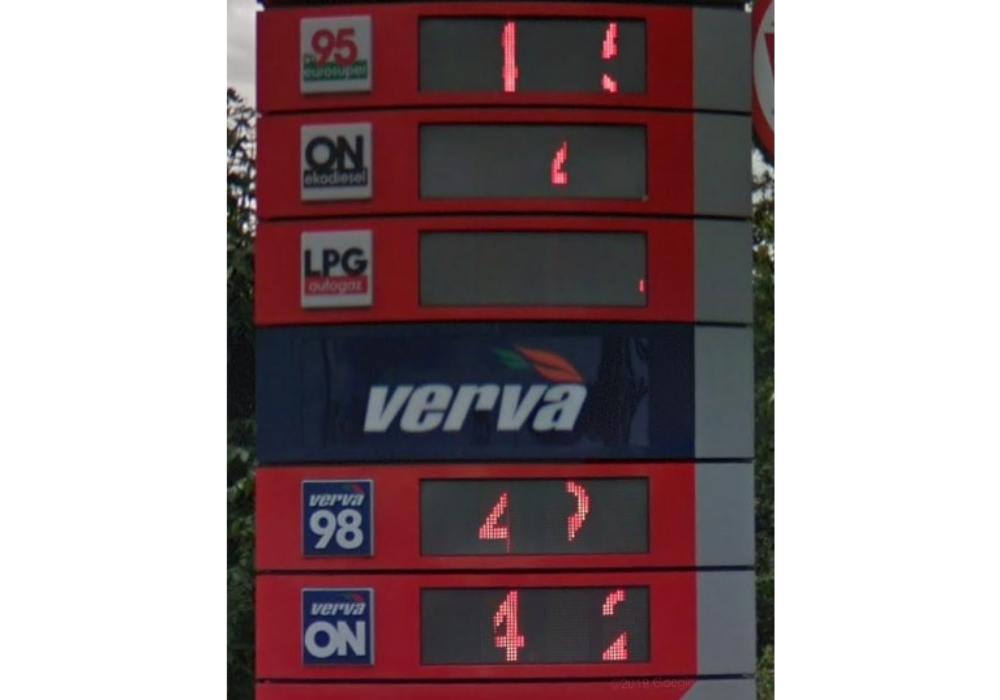LPG: (298, 227, 375, 309)
ON: (298, 583, 377, 671), (298, 121, 374, 203)
PB95: (295, 14, 374, 96)
PB98: (298, 475, 378, 562)
